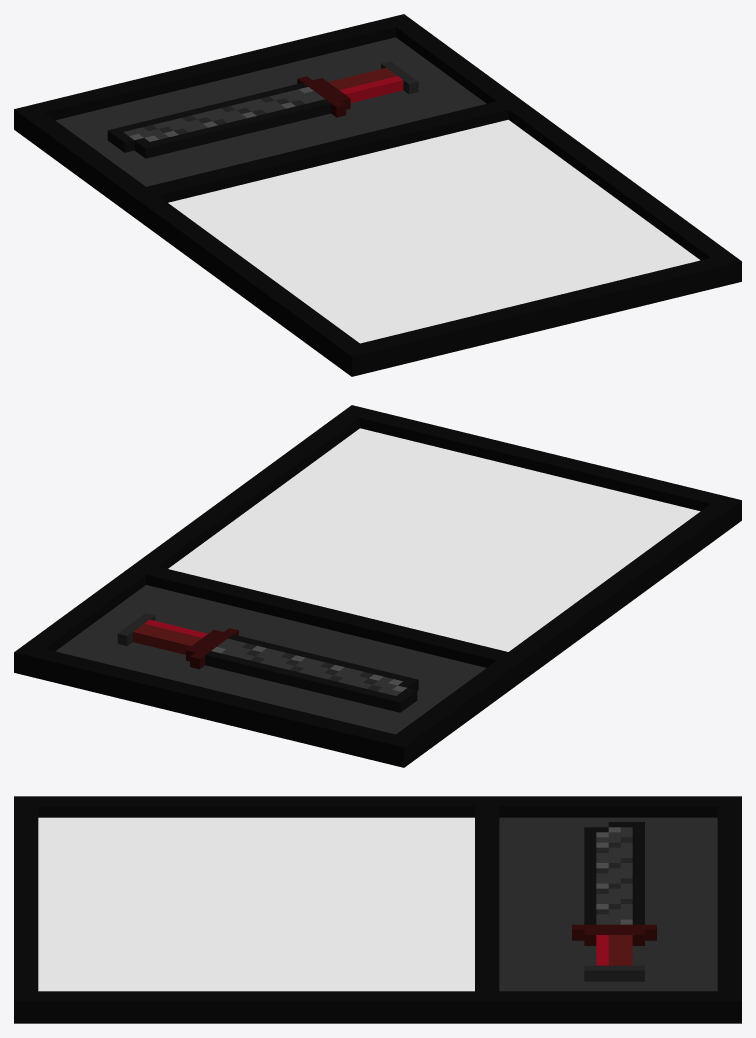
The model's file is tile15.obj.
3 renders of one model, top to bottom at view 1: azimuth 30°, elevation 25°; view 2: azimuth 150°, elevation 25°; view 3: azimuth 270°, elevation 25°, orthographic. The views are drawn at different scales.
Size of the model in its own units: 4 by 0.2 by 6.
1 material, 1 textured.
